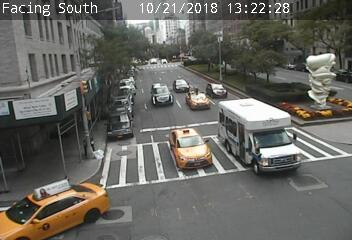car: (218, 98, 302, 175), (170, 128, 213, 168), (185, 90, 209, 109), (152, 85, 173, 104), (207, 83, 228, 98), (175, 79, 190, 92)
